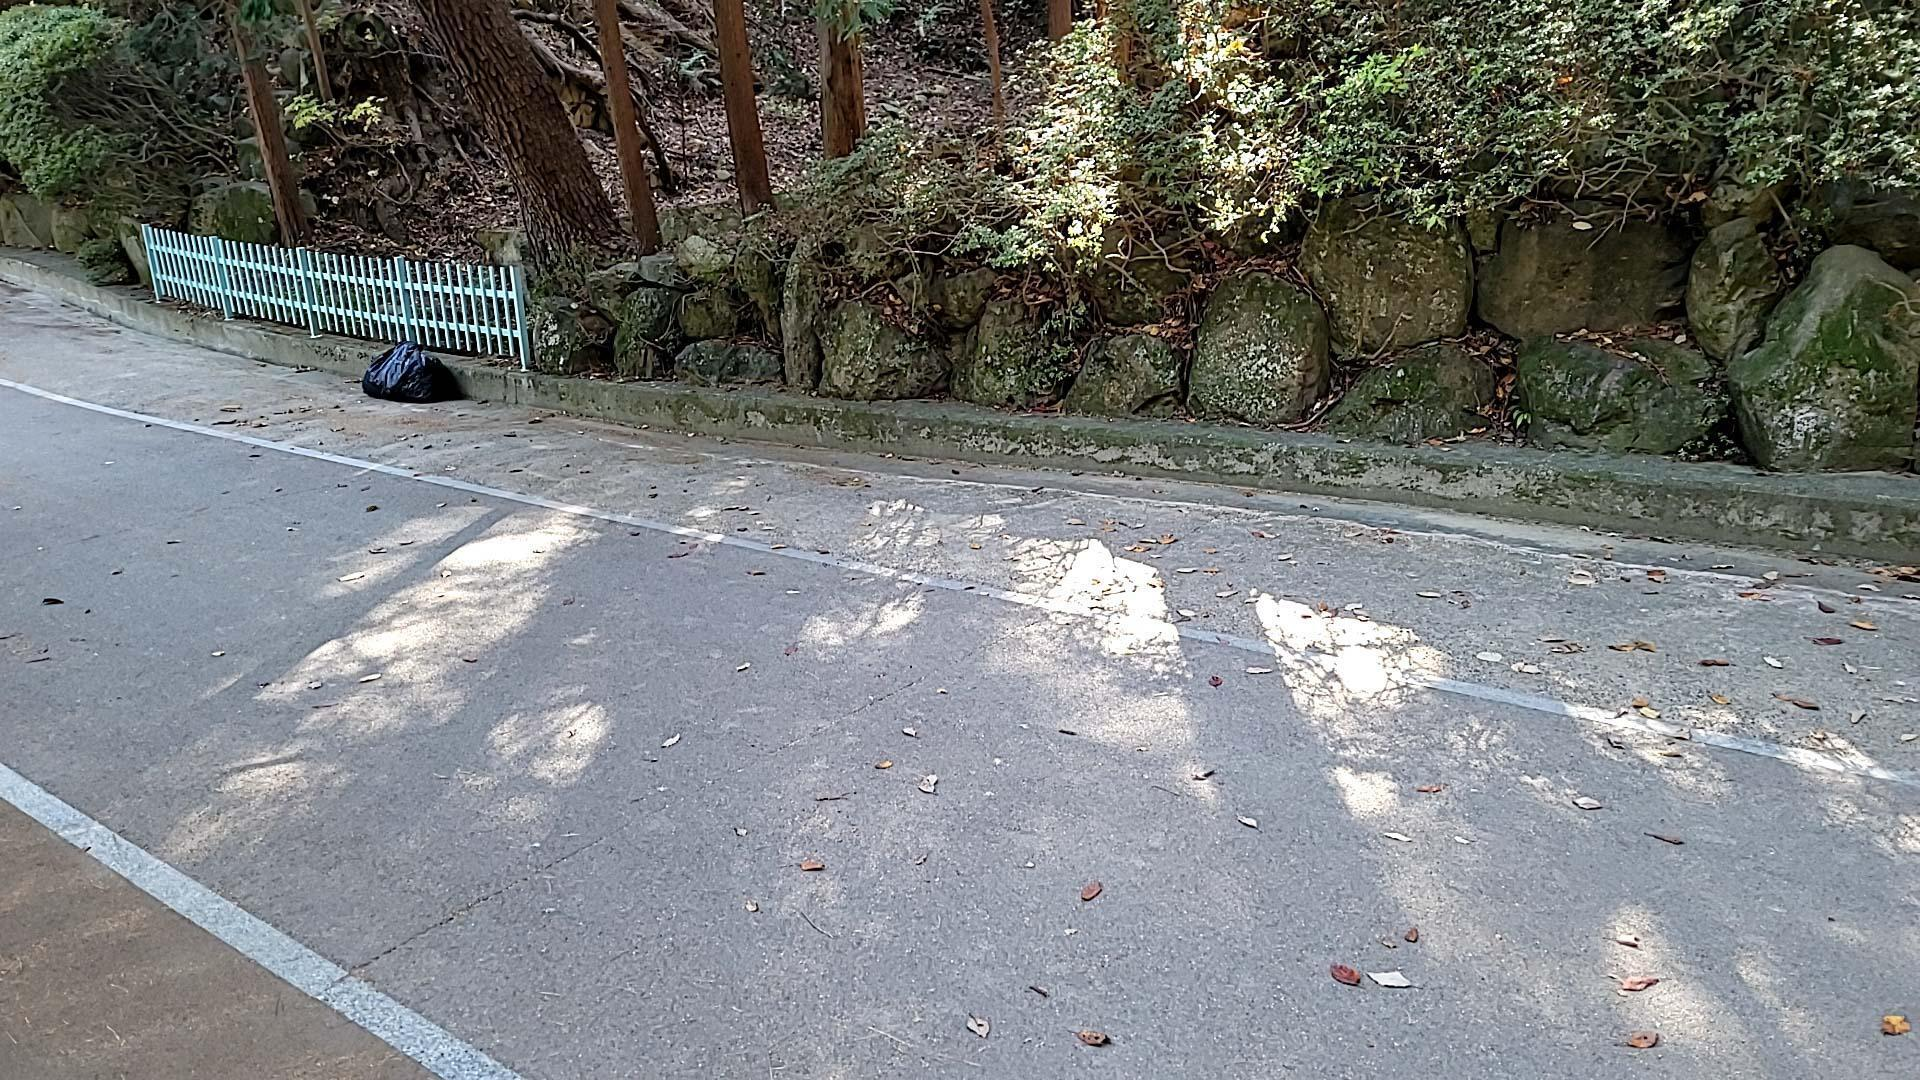white_bag: (356, 338, 465, 406)
